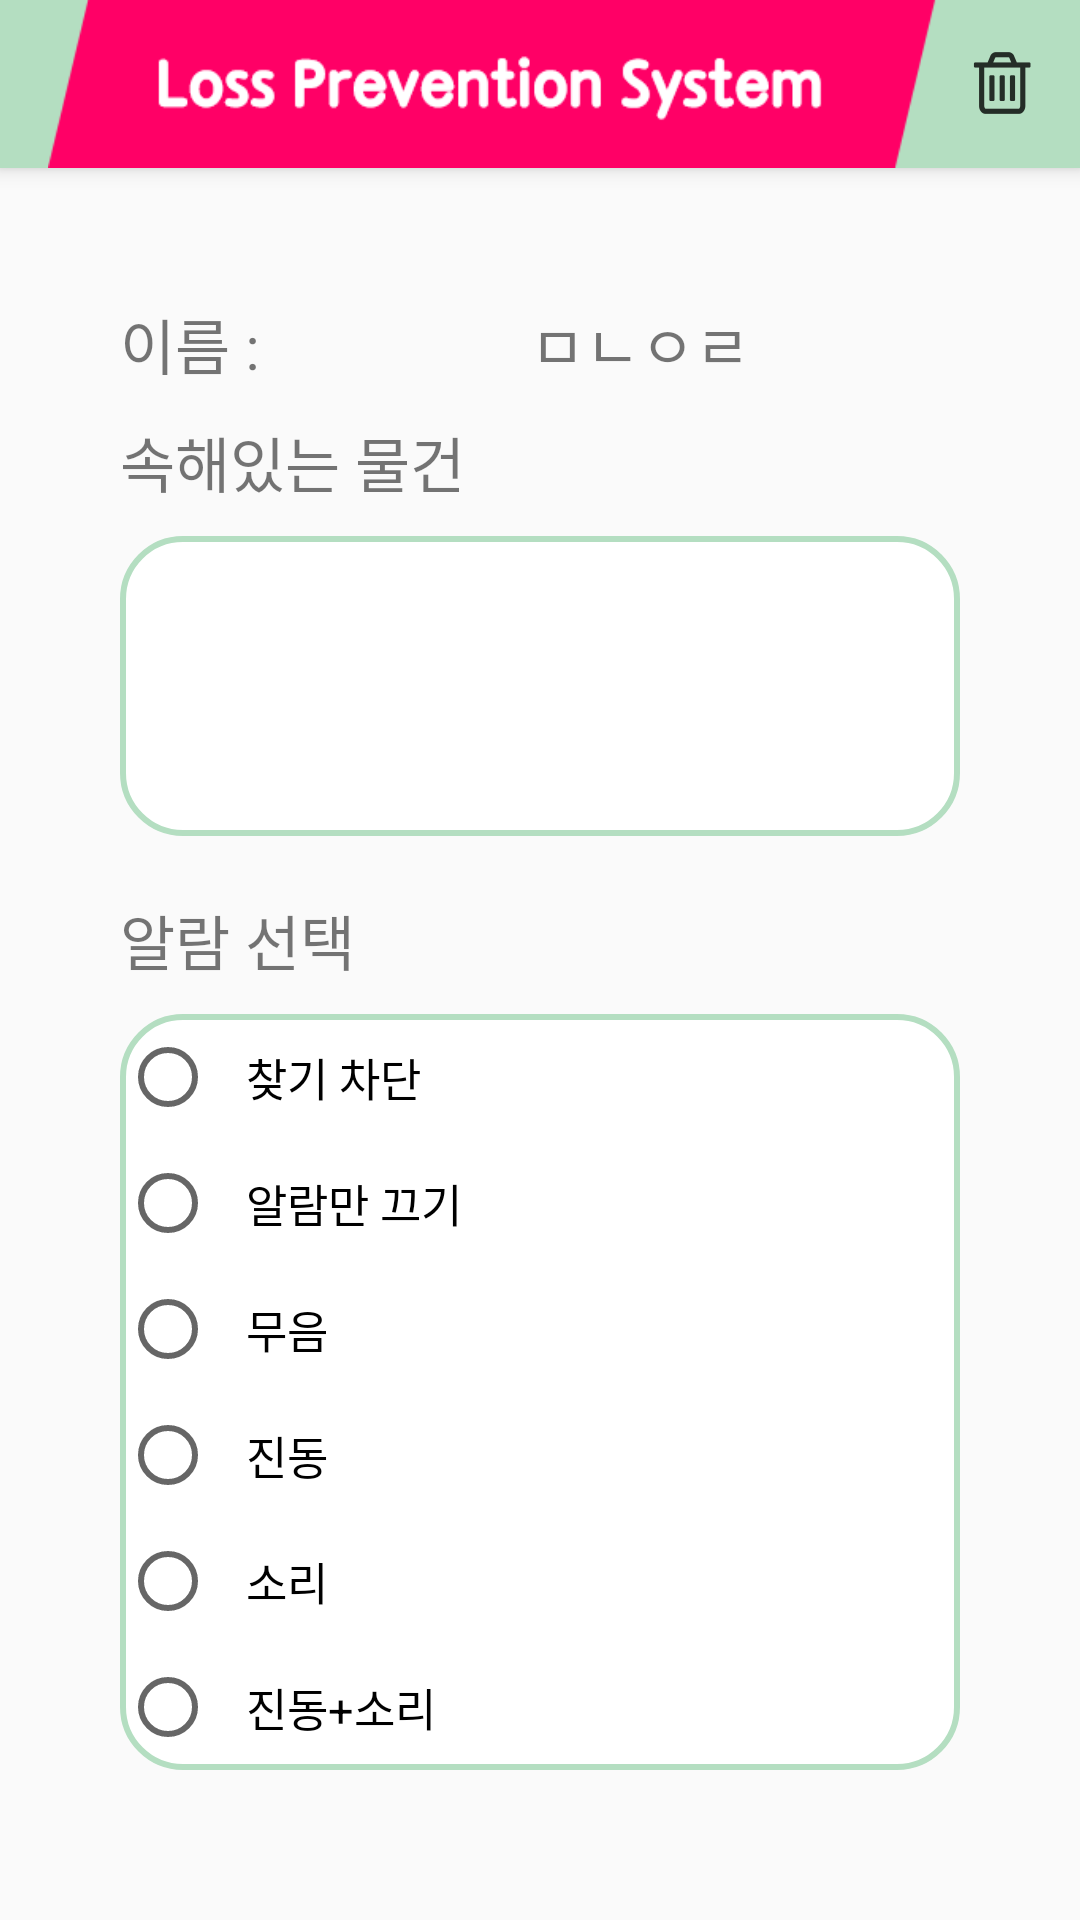

Named icons in this screenshot (1080px×1920px) and their bounding boxes, (x1, y1, x2, y2):
trash: (974, 52, 1031, 114)
